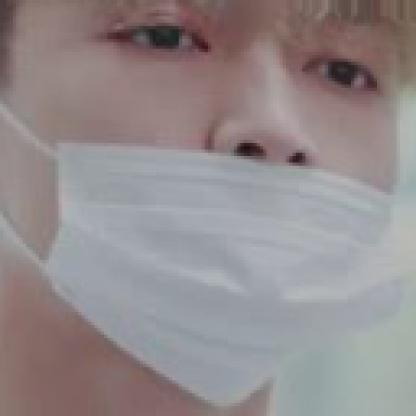mask_weared_incorrect: (0, 0, 398, 373)
